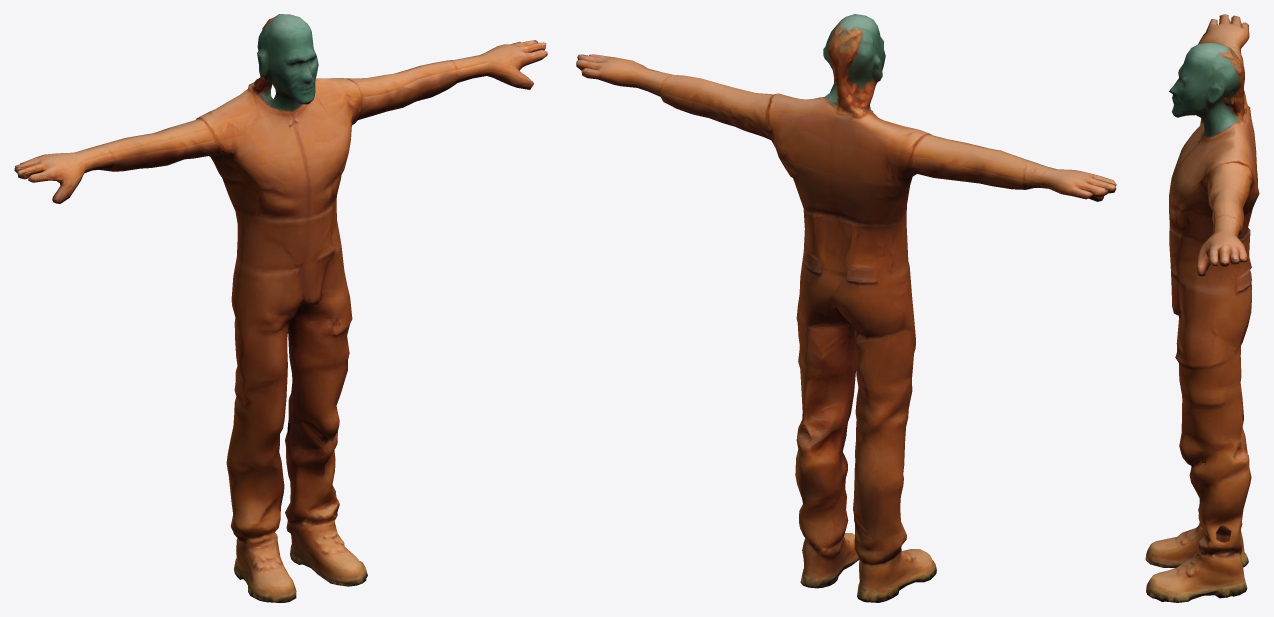
The model's file is boss_warden.glb.
3 renders of one model, left to right at view 1: azimuth 30°, elevation 25°; view 2: azimuth 150°, elevation 25°; view 3: azimuth 270°, elevation 25°, orthographic. The views are drawn at different scales.
Parts seen in each view (by area): view 1: boss_warden; view 2: boss_warden; view 3: boss_warden.
Boxes of the visible parts, x1,y1,x2,y2 form: boss_warden: (14, 14, 547, 602); boss_warden: (576, 14, 1116, 602); boss_warden: (1145, 14, 1259, 602).
Bounding box in the file's own units: 0.9965 × 0.9992 × 0.1937.
Materials: 1 (1 with a texture image).
